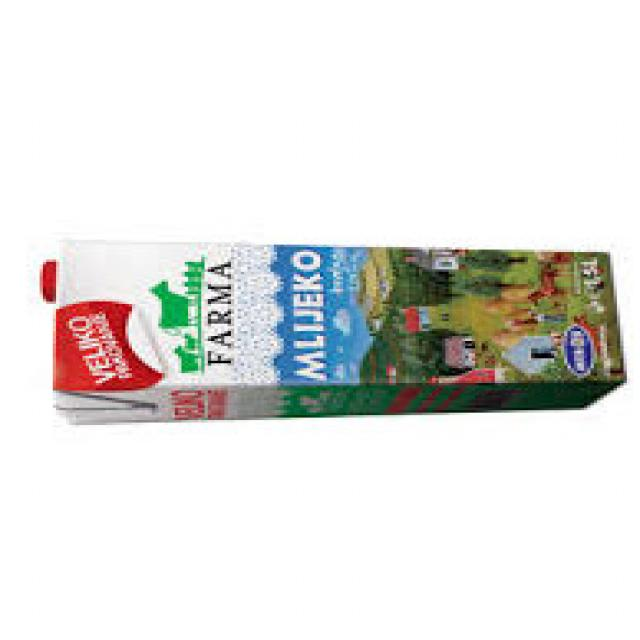non_white_jug: (40, 237, 627, 422)
